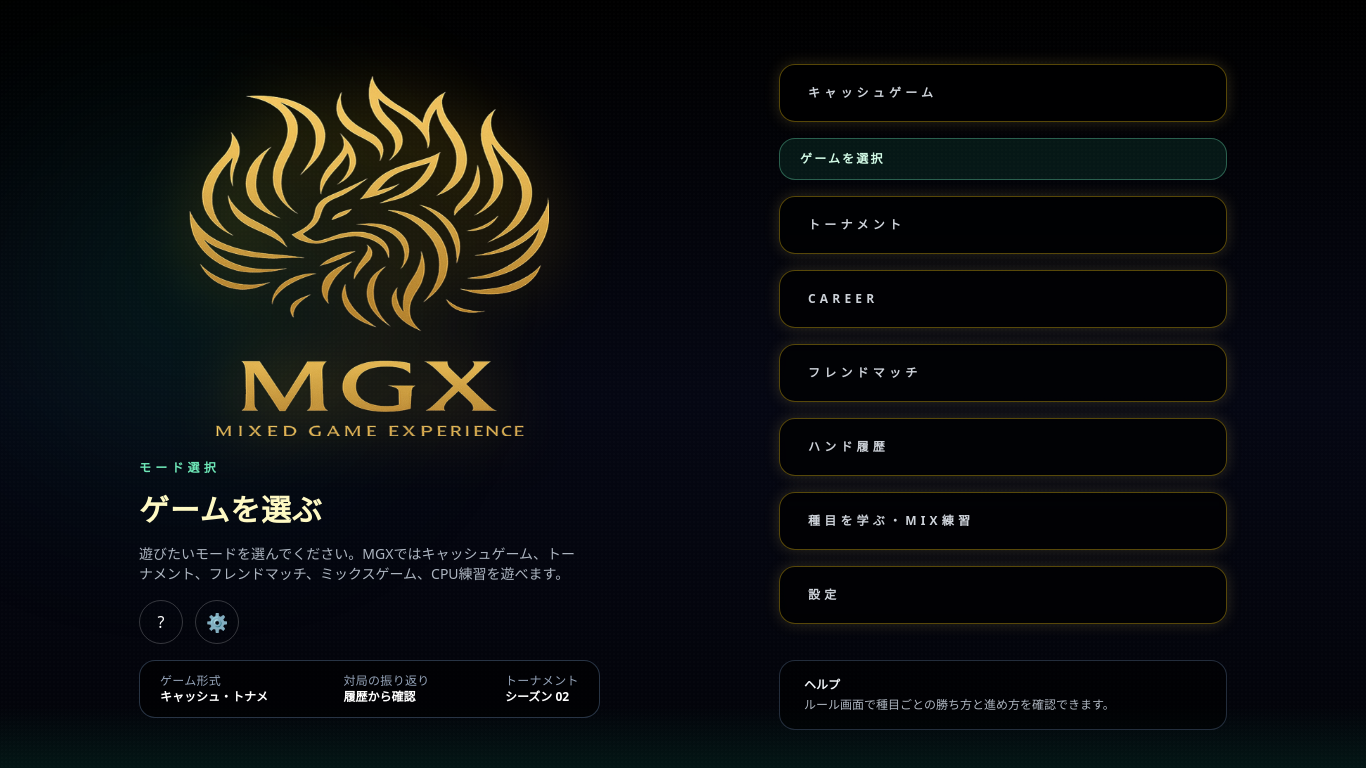
Scenario: MainMenuScreen › shows per-variant Japanese rules and strategy guidance from the help button
The width and height of the screenshot is (1366, 768).
Step 1. Click the button named "open rules" → (161, 622), box [139, 600, 183, 644]
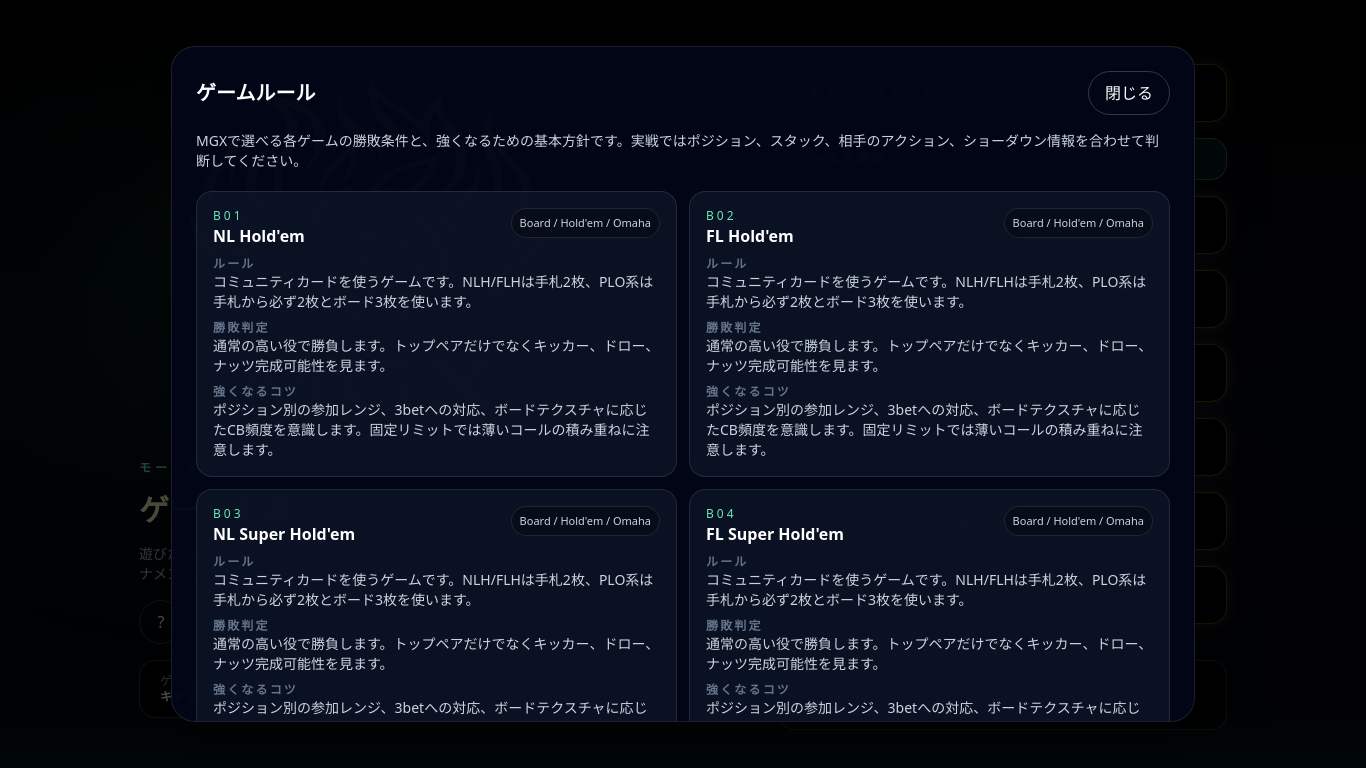
Check: the heading "ゲームルール" is shown, box [196, 79, 315, 107]
Check: the text "強くなるコツ" below "NL Hold'em" is shown, box [213, 383, 298, 400]
Check: the text "コミュニティカードを使うゲームです。NLH/FLHは手札2枚、PLO系は手札から必ず2枚とボード3枚を使います。" below "NL Hold'em" is shown, box [213, 272, 653, 311]
